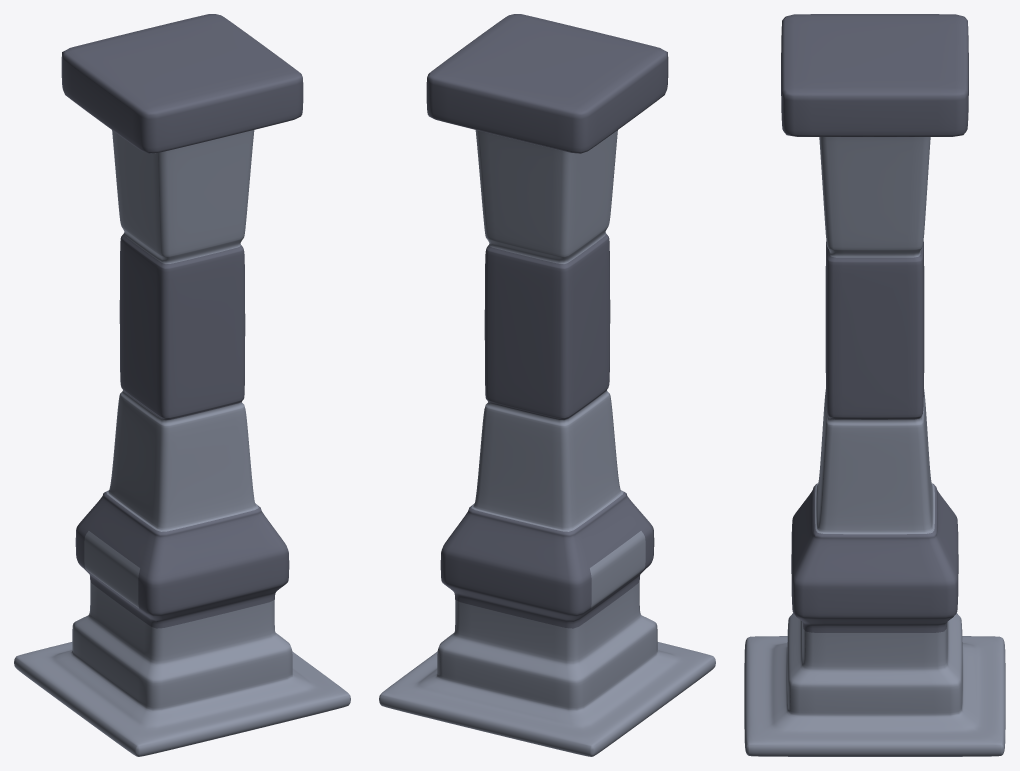
File: pillar.fbx
3 views of the same model, side by side, from view 1: azimuth 30°, elevation 25°; view 2: azimuth 150°, elevation 25°; view 3: azimuth 270°, elevation 25° (orthographic). The views are drawn at different scales.
Parts seen in each view (by area): view 1: pPlane1; view 2: pPlane1; view 3: pPlane1.
Boxes of the visible parts, bbox=[...] form: pPlane1: bbox=[14, 14, 350, 756]; pPlane1: bbox=[379, 14, 715, 756]; pPlane1: bbox=[744, 14, 1005, 756].
Size of the model in its own units: 1.78 by 4.89 by 1.78.
